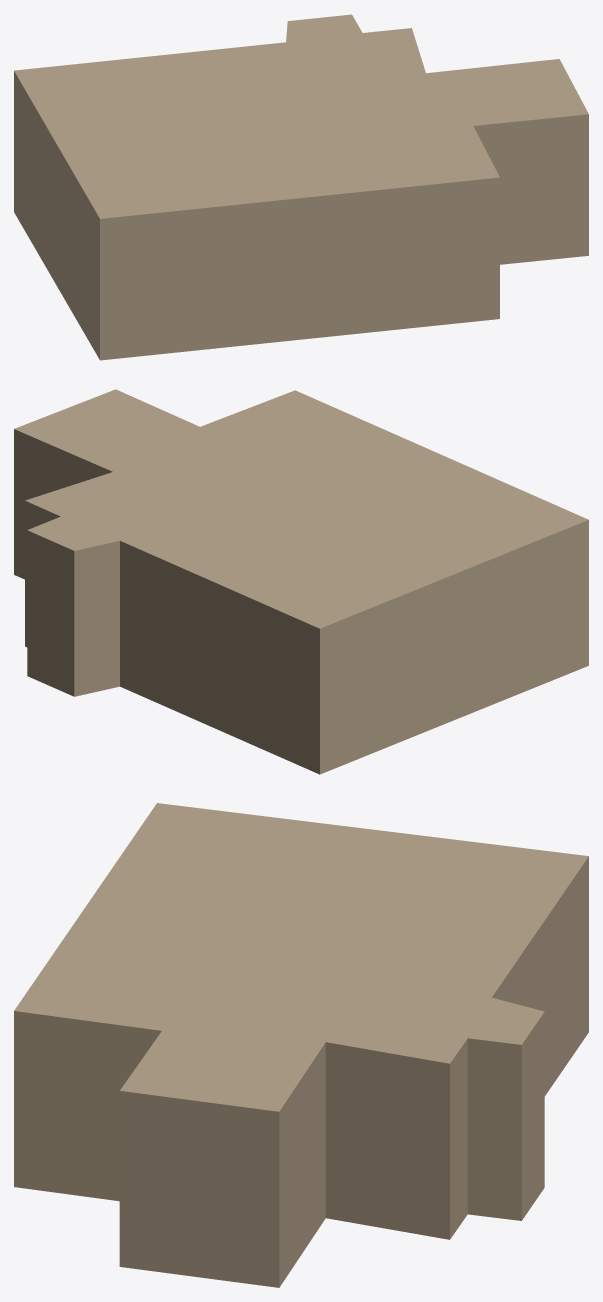
The model's file is bld_108401238.dae.
3 renders of one model, top to bottom at view 1: azimuth 30°, elevation 25°; view 2: azimuth 150°, elevation 25°; view 3: azimuth 270°, elevation 25°, orthographic. The views are drawn at different scales.
Visible parts, largest first — view 1: bld_108401238; view 2: bld_108401238; view 3: bld_108401238.
Boxes of the visible parts, x1=… form: bld_108401238: x1=14, y1=14, x2=588, y2=360; bld_108401238: x1=14, y1=389, x2=588, y2=774; bld_108401238: x1=14, y1=803, x2=588, y2=1287.
Bounding box in the file's own units: 30.09 × 23.67 × 8.
